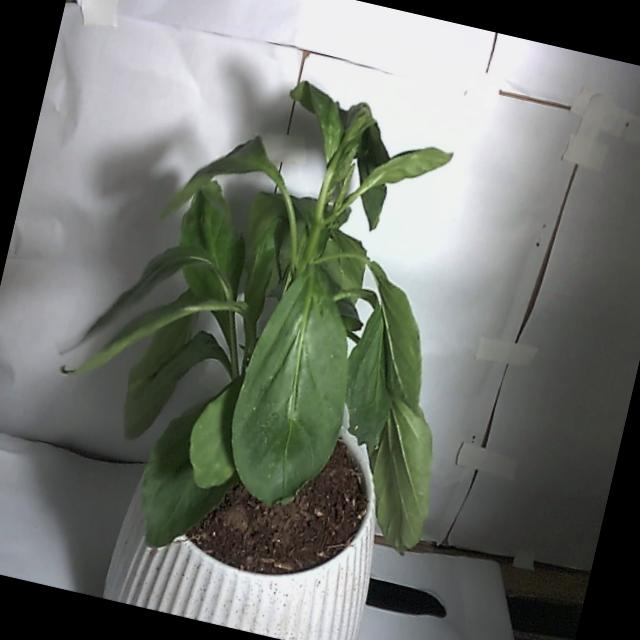Leaf: (304, 260, 481, 567), (211, 255, 374, 520)
